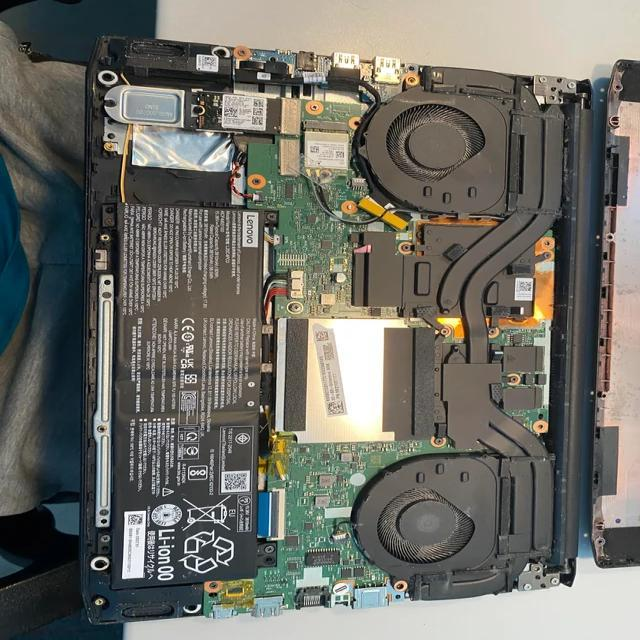NIC: (98, 197, 271, 595)
SSD: (293, 113, 361, 190)
